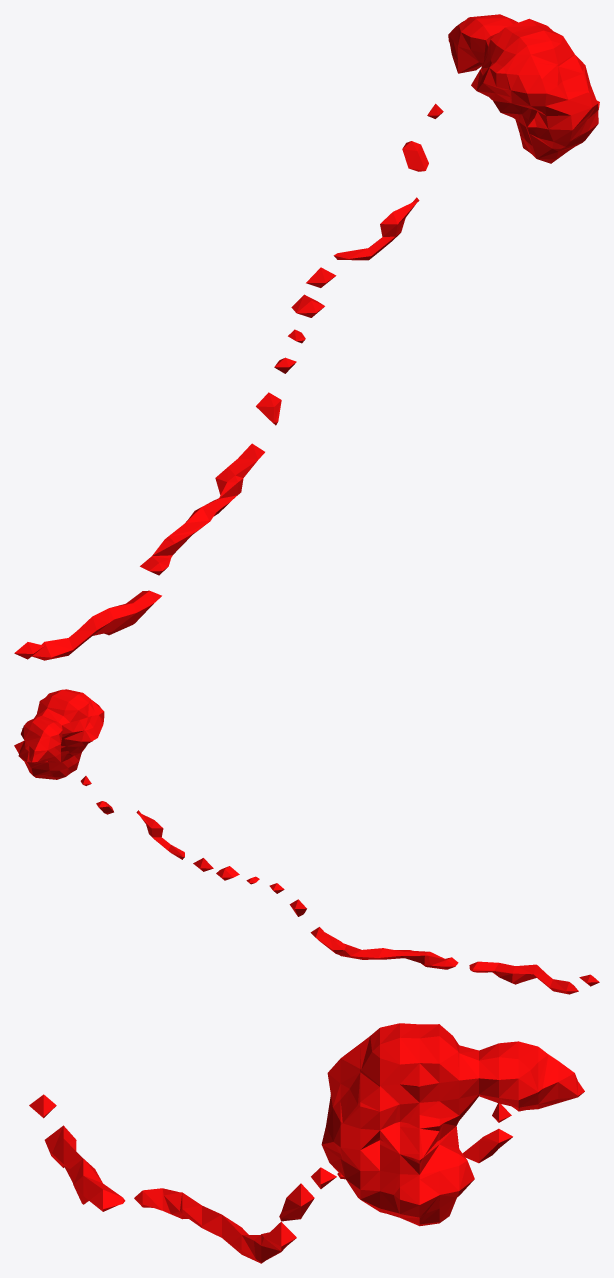
Rendered from paaZ_coarse.dae.
3 views of the same model, one above another, from view 1: azimuth 30°, elevation 25°; view 2: azimuth 150°, elevation 25°; view 3: azimuth 270°, elevation 25° (orthographic). The views are drawn at different scales.
Visible parts, largest first — view 1: paaZ; view 2: paaZ; view 3: paaZ.
Boxes of the visible parts, x1,y1,x2,y2 form: paaZ: [14, 14, 599, 660]; paaZ: [14, 689, 599, 994]; paaZ: [29, 1023, 584, 1263].
Bounding box in the file's own units: 397 × 204 × 195.
